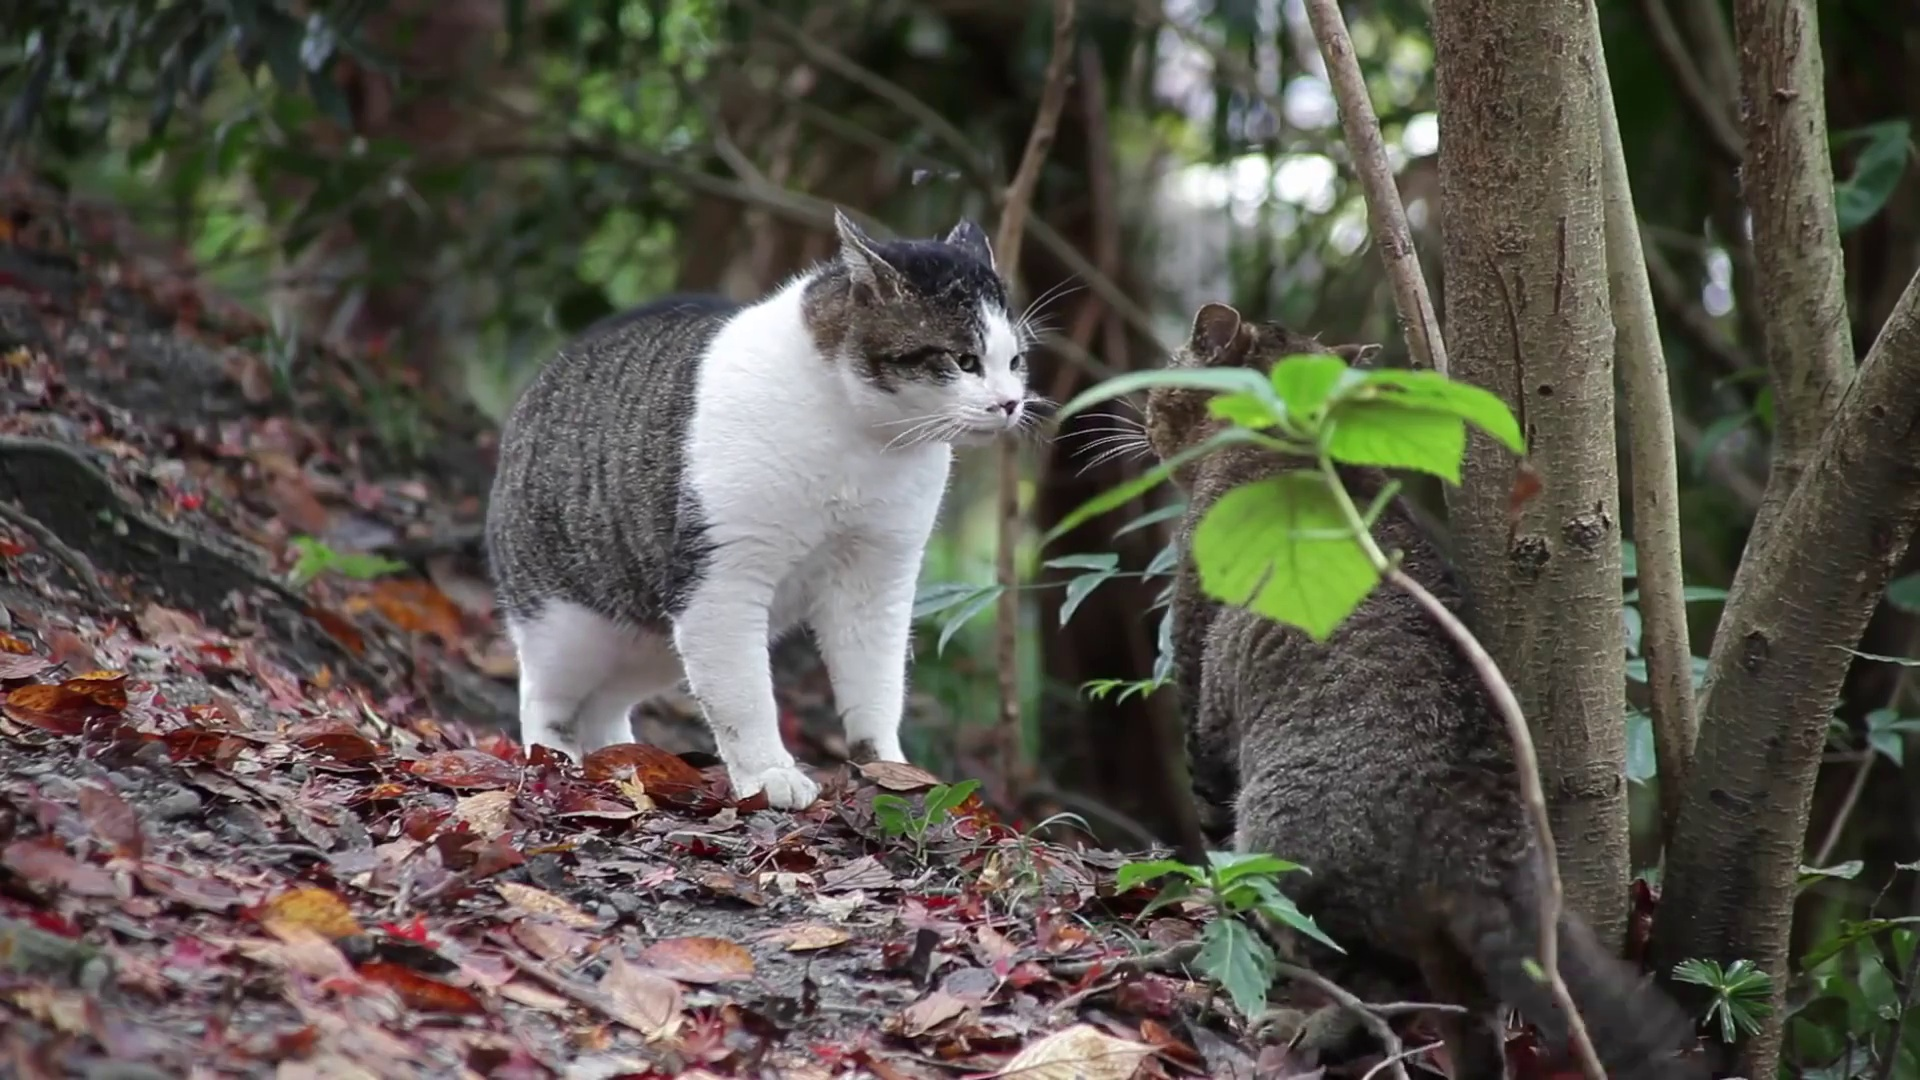black-white: (477, 202, 1029, 815)
pure black: (1139, 301, 1567, 1006)
